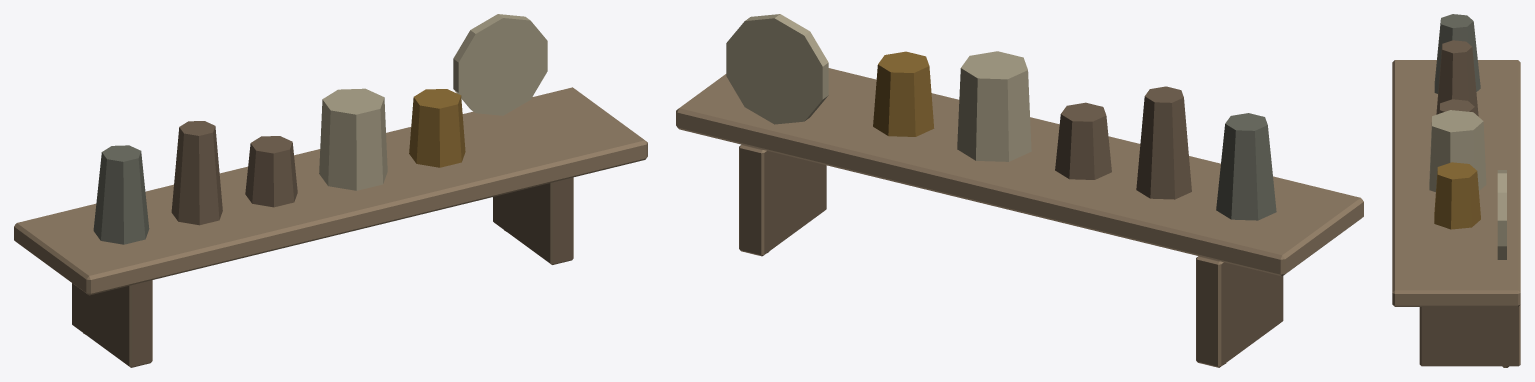
The model's file is wall_shelf.glb.
3 renders of one model, left to right at view 1: azimuth 30°, elevation 25°; view 2: azimuth 150°, elevation 25°; view 3: azimuth 270°, elevation 25°, orthographic. The views are drawn at different scales.
Parts seen in each view (by area): view 1: Wall_Shelf; view 2: Wall_Shelf; view 3: Wall_Shelf.
Boxes of the visible parts, bbox=[...] form: Wall_Shelf: bbox=[14, 14, 647, 367]; Wall_Shelf: bbox=[676, 14, 1363, 367]; Wall_Shelf: bbox=[1392, 14, 1520, 367].
Bounding box in the file's own units: 1.2 × 0.4483 × 0.28.
